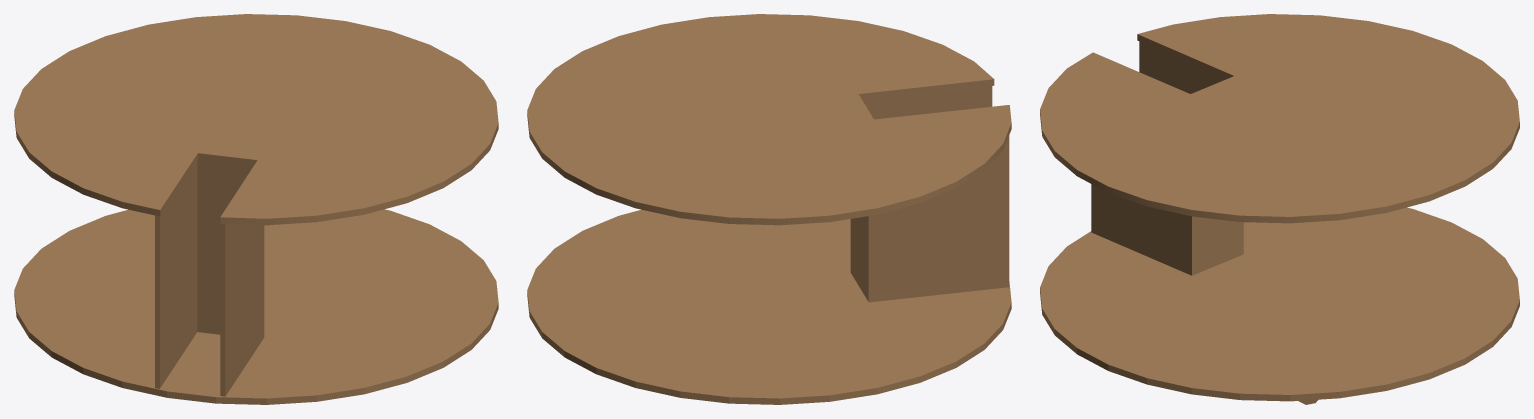
File: coffee_table_4.FBX
3 views of the same model, side by side, from view 1: azimuth 30°, elevation 25°; view 2: azimuth 150°, elevation 25°; view 3: azimuth 270°, elevation 25° (orthographic).
Visible parts, largest first — view 1: coffee_table_4; view 2: coffee_table_4; view 3: coffee_table_4.
Part boxes in pixels (box(x1,y1,x2,y2)): coffee_table_4: box(14, 14, 498, 404); coffee_table_4: box(527, 14, 1011, 404); coffee_table_4: box(1040, 14, 1519, 404).
Bounding box in the file's own units: 0.8973 × 0.4265 × 0.8964.
